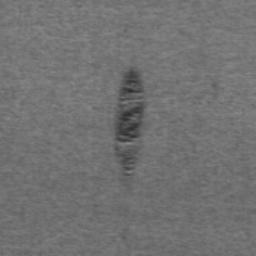Secondary rust skin: (114, 69, 146, 178)
